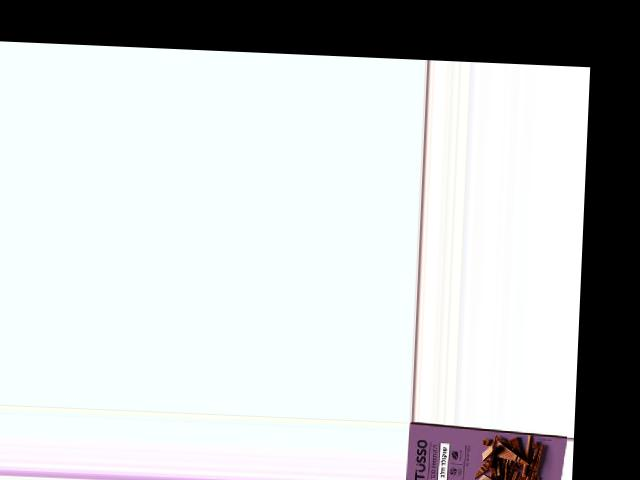chocolate: (408, 426, 567, 480)
